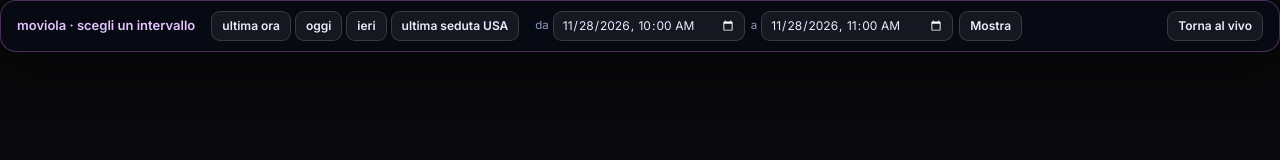
Scenario: ReplayBar › loads a from–to window in Rome time and refuses one longer than 24 hours
Replace the text in the field labelled "da" with "2026-11-28T09:00" at point(649, 26), box [553,11,745,41]
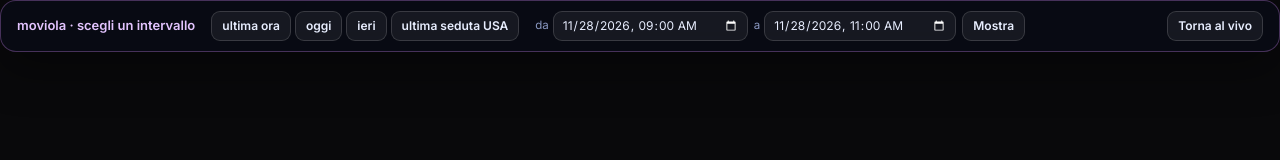
Replace the text in the field labelled "a" with "2026-11-28T10:30" at point(860, 26), box [764,11,956,41]
Click the button "Mostra".
click(994, 26)  # box [962,11,1025,41]
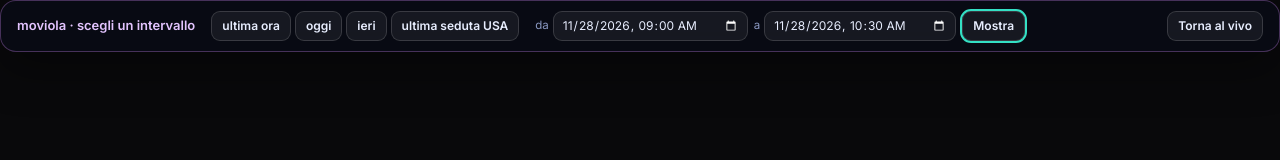
Replace the text in the field labelled "da" with "2026-11-26T09:00" at point(650, 26), box [553,11,748,41]
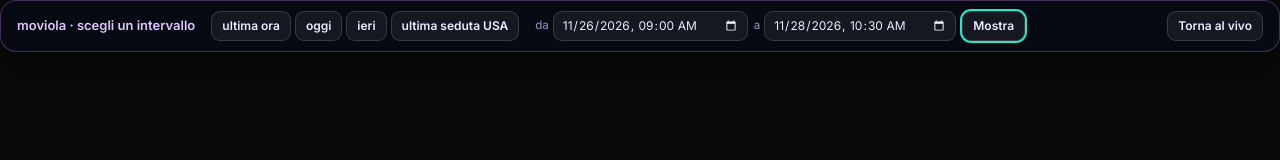
Click the button "Mostra".
click(994, 26)  # box [962,11,1025,41]
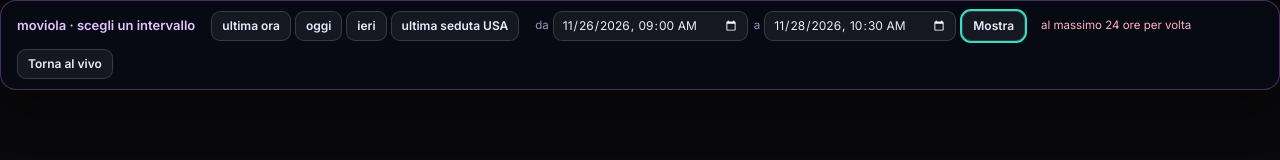
Check: the message shows "al massimo 24 ore", box [1041,18,1191,32]
Replace the text in the field labelled "da" with "2026-11-28T11:00" at point(650, 26), box [553,11,748,41]
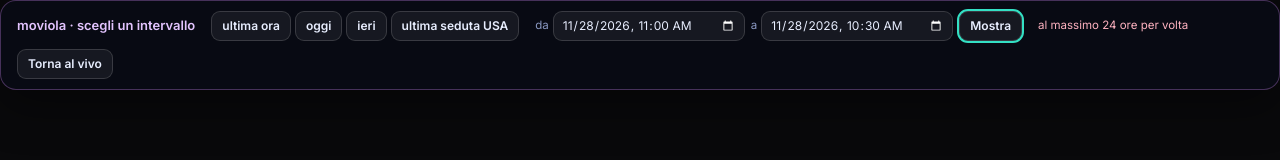
Click the button "Mostra".
click(991, 26)  # box [959,11,1022,41]
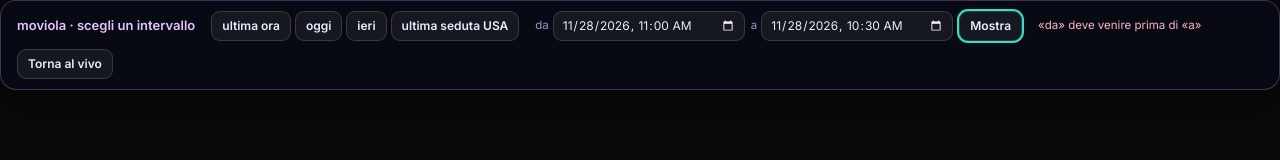
Check: the message reads "«da» deve venire prima di «a»", box [1038,18,1201,32]
